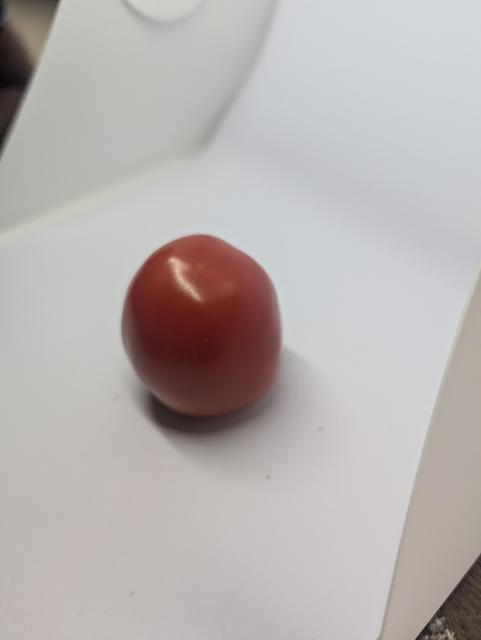red: (108, 223, 302, 438)
